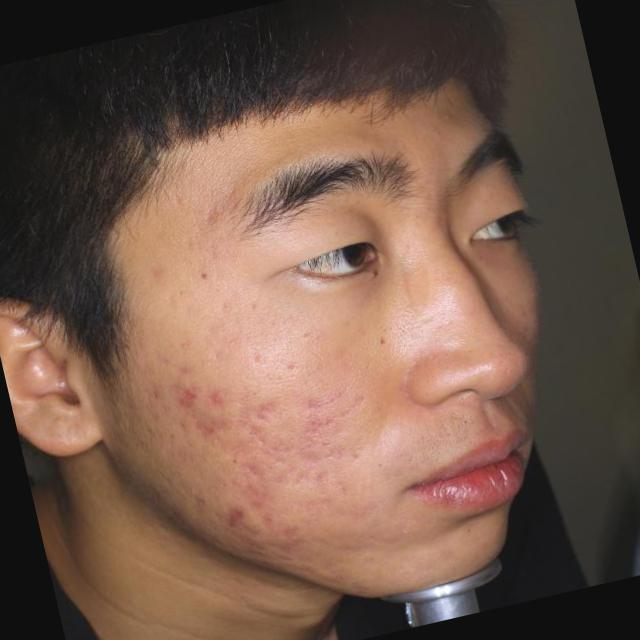acne: (276, 518, 310, 566), (233, 474, 277, 511), (220, 499, 252, 540), (244, 389, 278, 427), (286, 388, 323, 422), (199, 376, 233, 412), (186, 410, 224, 439), (298, 417, 335, 445), (166, 382, 204, 406), (253, 502, 285, 530)
